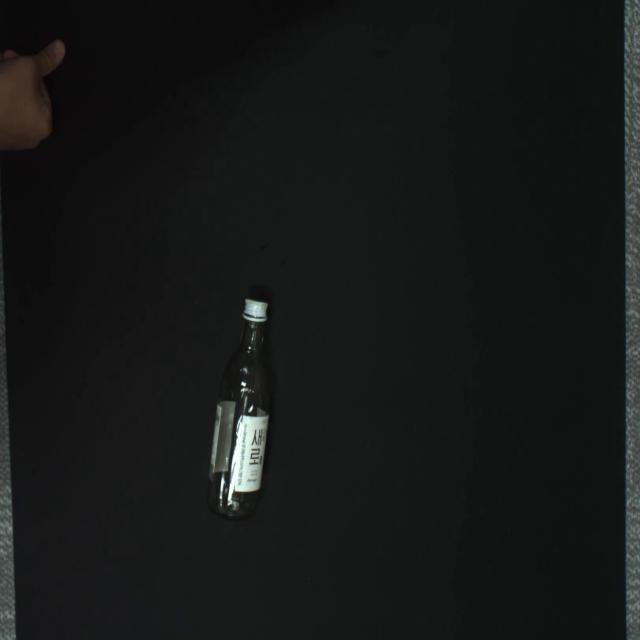soju-bottle: (206, 298, 272, 521)
